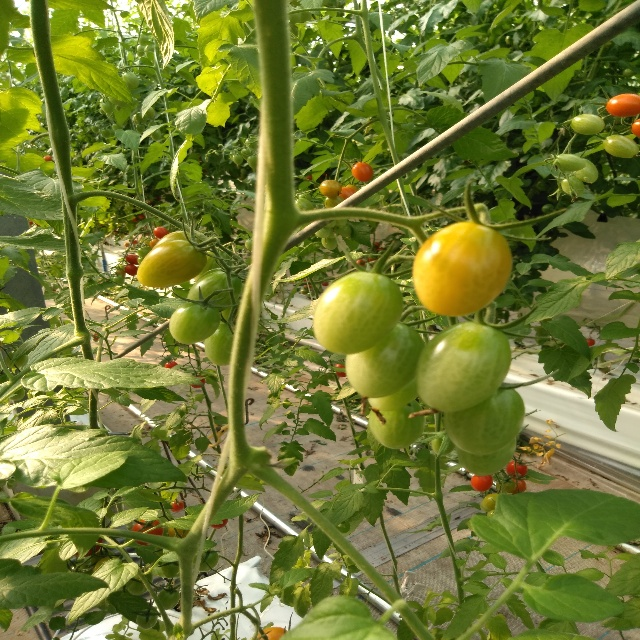l_fully_ripened: (606, 93, 640, 117), (471, 474, 493, 492), (507, 461, 528, 479), (153, 226, 169, 239), (125, 254, 140, 265), (125, 264, 137, 276)
l_green: (418, 320, 512, 413), (312, 270, 404, 357), (345, 323, 426, 399), (442, 381, 525, 455), (368, 400, 425, 450), (186, 270, 243, 313), (455, 437, 516, 476), (168, 301, 221, 345), (366, 378, 419, 411), (194, 245, 234, 282), (204, 323, 236, 366), (602, 134, 639, 158), (570, 113, 605, 135), (571, 158, 598, 184), (192, 549, 219, 573), (553, 154, 586, 172), (157, 587, 181, 611), (432, 432, 456, 456), (561, 176, 585, 198), (136, 609, 158, 630), (161, 561, 180, 578), (295, 197, 315, 212), (321, 237, 337, 250)
l_half_ripened: (411, 222, 513, 317), (137, 239, 208, 288), (152, 230, 205, 249), (351, 162, 374, 182), (320, 180, 343, 197), (324, 195, 344, 210), (338, 187, 356, 200)
